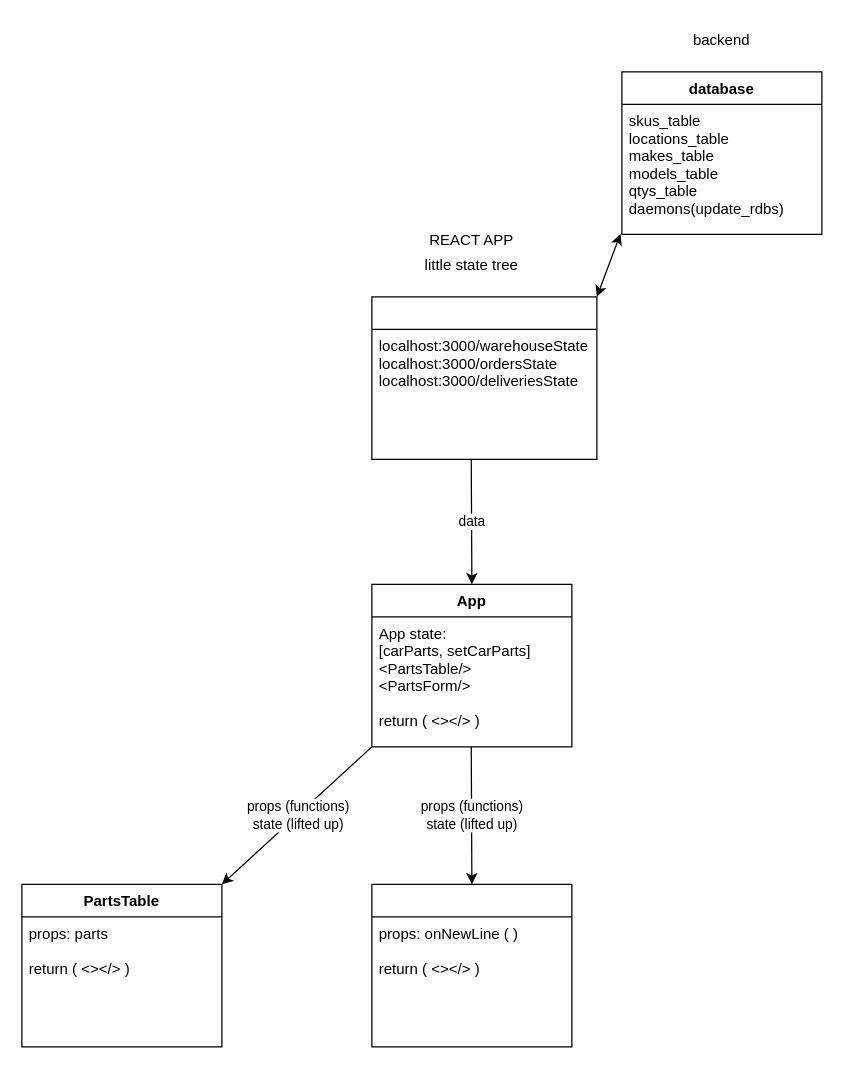
Image size: 844x1071. Some labels were removed from this diagram. The box of each missing label's shape, as (x1, y1, x2, y2) in pixels:
PartsForm: (371, 883, 572, 1047)
warehouse-service: (371, 296, 597, 459)
